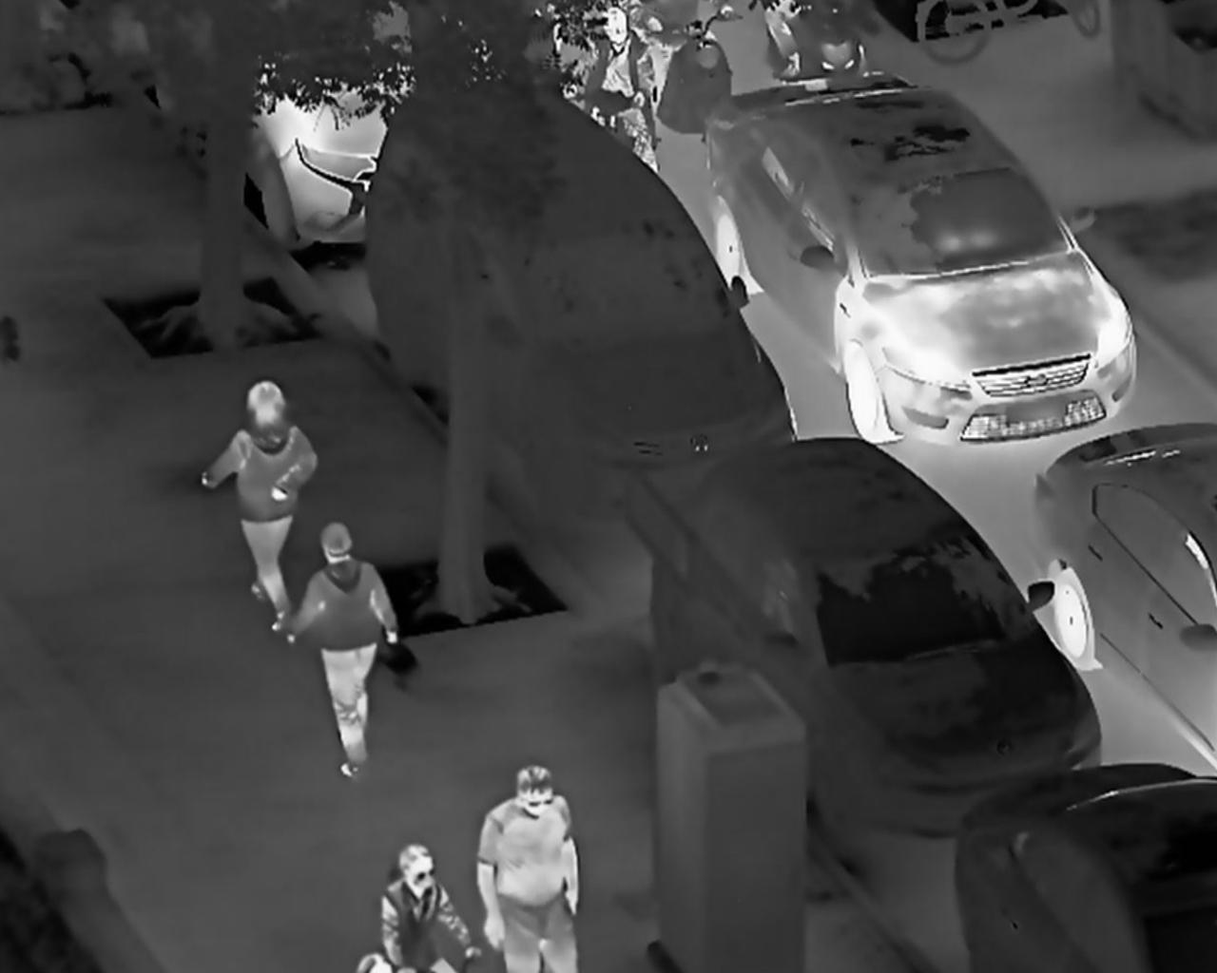person: (283, 519, 401, 788), (198, 379, 320, 636), (473, 761, 583, 973), (565, 7, 658, 177), (377, 841, 482, 973)
